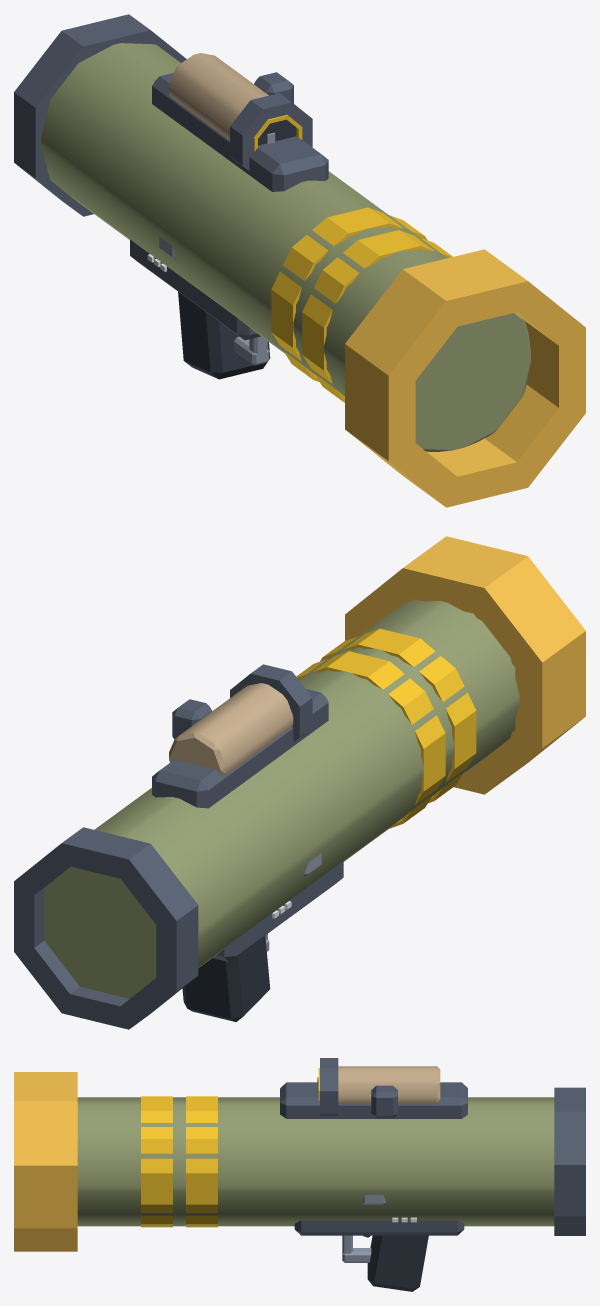
The model's file is Military_RL_v002.fbx.
3 renders of one model, top to bottom at view 1: azimuth 30°, elevation 25°; view 2: azimuth 150°, elevation 25°; view 3: azimuth 270°, elevation 25°, orthographic. The views are drawn at different scales.
Visible parts, largest first — view 1: Military_RL__RECEIVER_MESH; view 2: Military_RL__RECEIVER_MESH; view 3: Military_RL__RECEIVER_MESH.
Boxes of the visible parts, x1,y1,x2,y2 form: Military_RL__RECEIVER_MESH: (14,14,585,507); Military_RL__RECEIVER_MESH: (14,536,585,1029); Military_RL__RECEIVER_MESH: (14,1058,585,1291).
Bounding box in the file's own units: 0.6282 × 0.9203 × 2.16.
